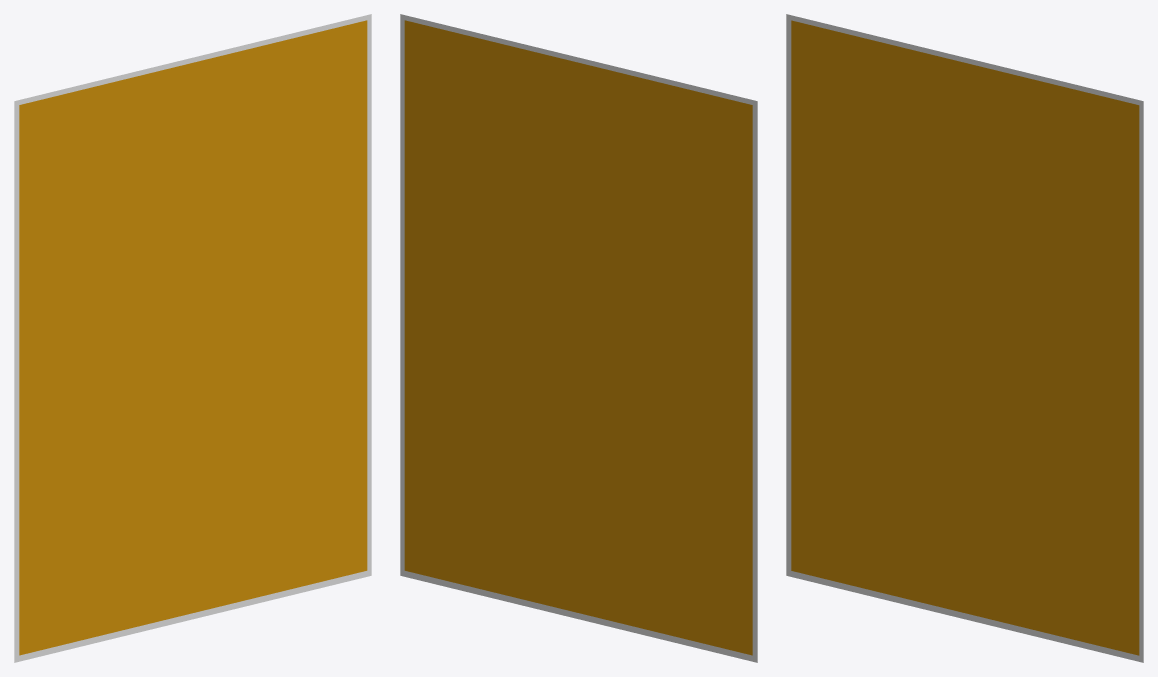
File: Counter_8_Exhibition_Design001.FBX
3 views of the same model, side by side, from view 1: azimuth 30°, elevation 25°; view 2: azimuth 150°, elevation 25°; view 3: azimuth 330°, elevation 25° (orthographic).
Visible parts, largest first — view 1: Counter_8_Exhibition_Design001; view 2: Counter_8_Exhibition_Design001; view 3: Counter_8_Exhibition_Design001.
Part boxes in pixels (x1,y1,x2,y2): Counter_8_Exhibition_Design001: (14, 14, 371, 662); Counter_8_Exhibition_Design001: (400, 14, 757, 662); Counter_8_Exhibition_Design001: (786, 14, 1143, 662).
Bounding box in the file's own units: 100 × 150 × 0.
